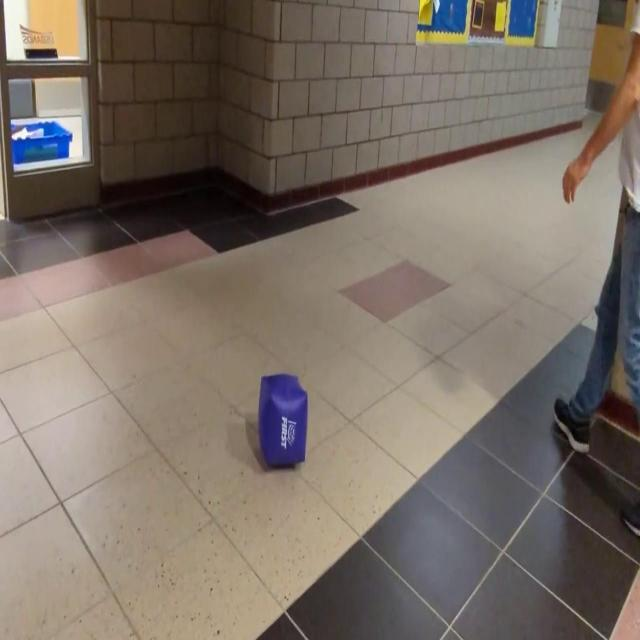frc_cube: (257, 375, 309, 468)
